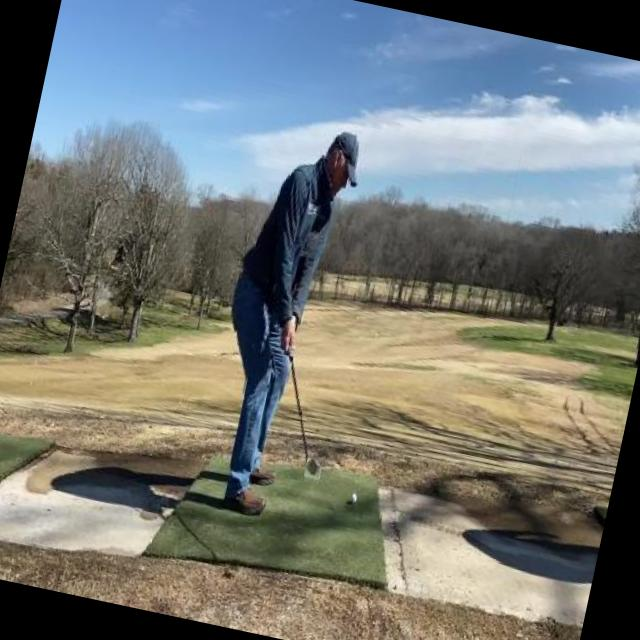club head: (303, 458, 323, 481)
